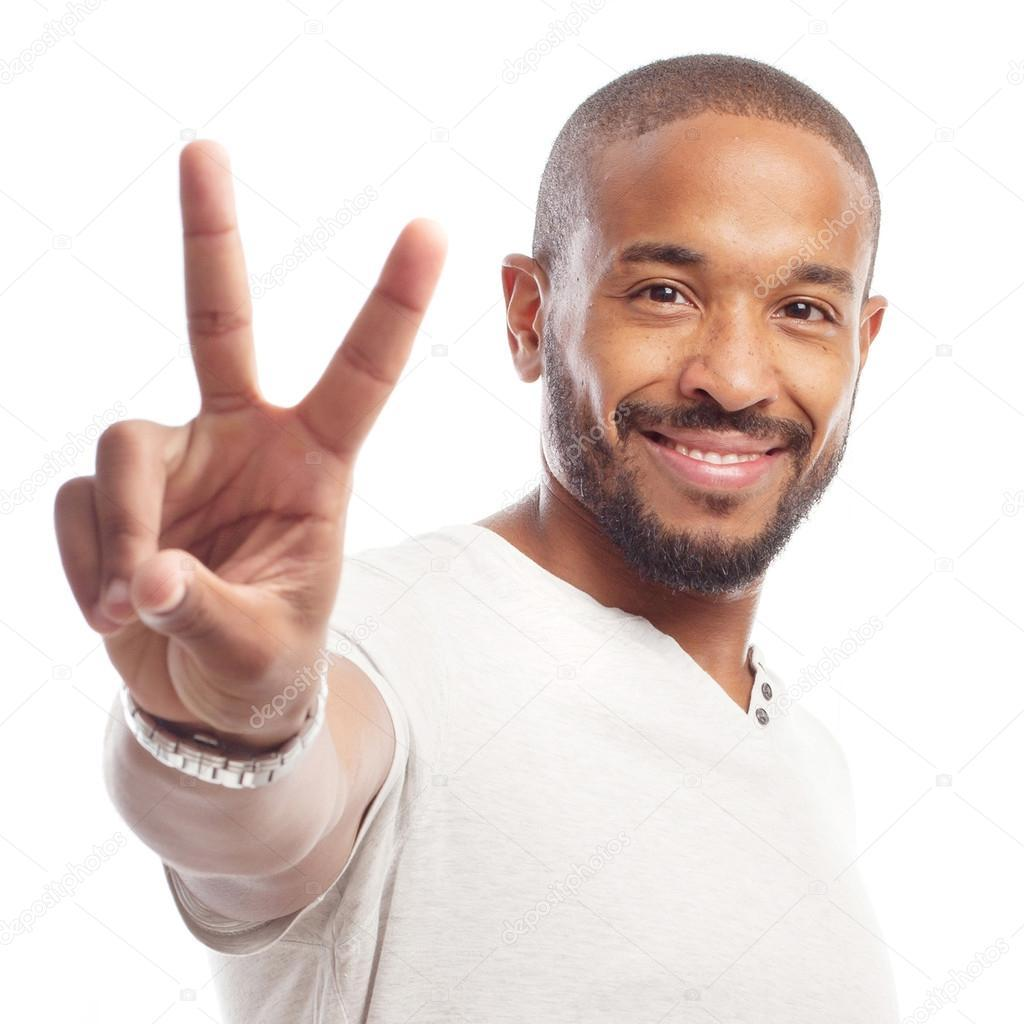peace_sign: (39, 111, 453, 779)
